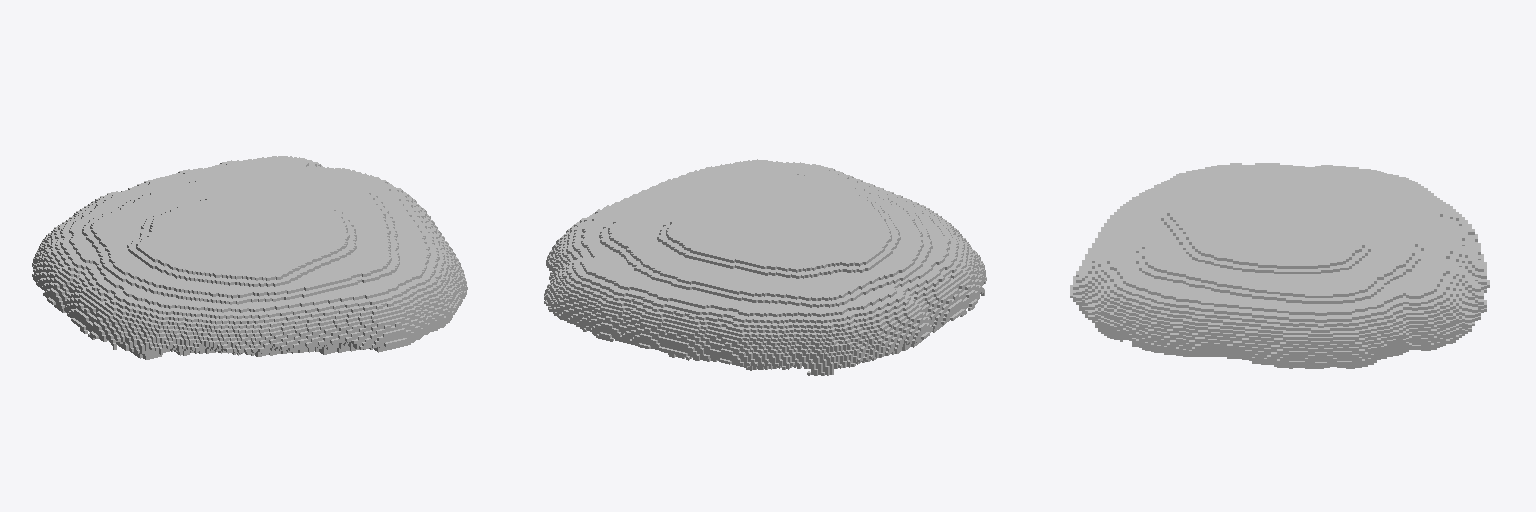
The model's file is mushroom-0.obj.
The picture shows the model from 3 angles: view 1: azimuth 30°, elevation 25°; view 2: azimuth 150°, elevation 25°; view 3: azimuth 270°, elevation 25°; orthographic projection.
Parts seen in each view (by area): view 1: object 1; view 2: object 1; view 3: object 1.
Part boxes in pixels (bbox=[...]): object 1: bbox=[32, 156, 467, 359]; object 1: bbox=[544, 159, 986, 375]; object 1: bbox=[1070, 163, 1489, 368].
Bounding box in the file's own units: 13.6 × 2 × 13.4.